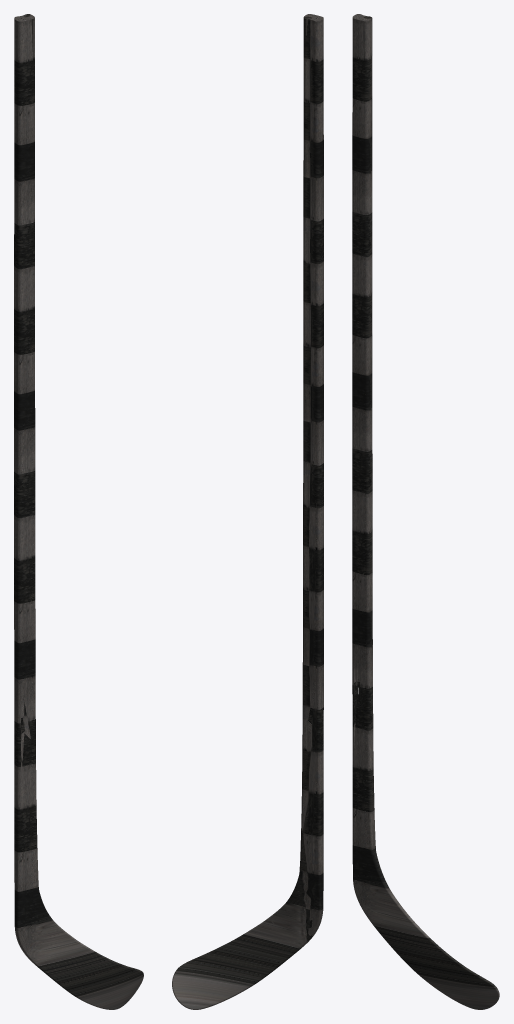
Rendered from P90TM-LIE7_0-ST.glb.
3 views of the same model, side by side, from view 1: azimuth 30°, elevation 25°; view 2: azimuth 150°, elevation 25°; view 3: azimuth 330°, elevation 25° (orthographic). The views are drawn at different scales.
Parts seen in each view (by area): view 1: geometry_0; view 2: geometry_0; view 3: geometry_0.
Part boxes in pixels (x1,y1,x2,y2): geometry_0: (14,14,143,1009); geometry_0: (172,14,323,1009); geometry_0: (352,14,499,1009).
Bounding box in the file's own units: 235 × 1650 × 57.67.
1 material, 1 textured.
